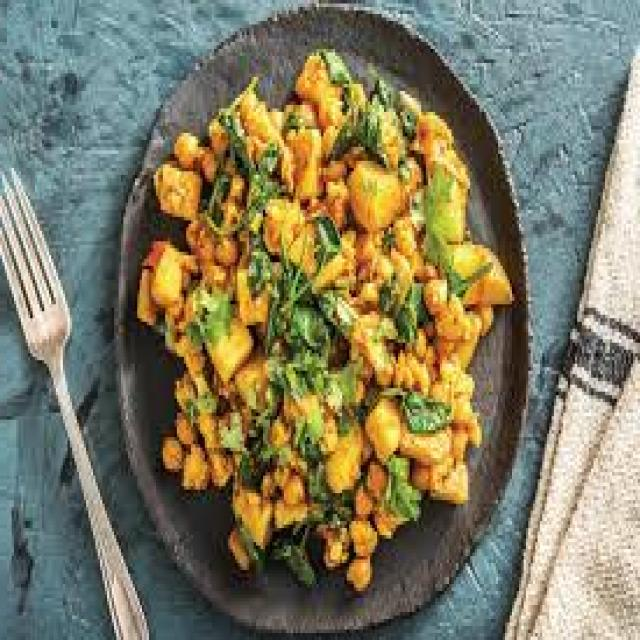Aloo Gobi: (180, 120, 472, 576)
